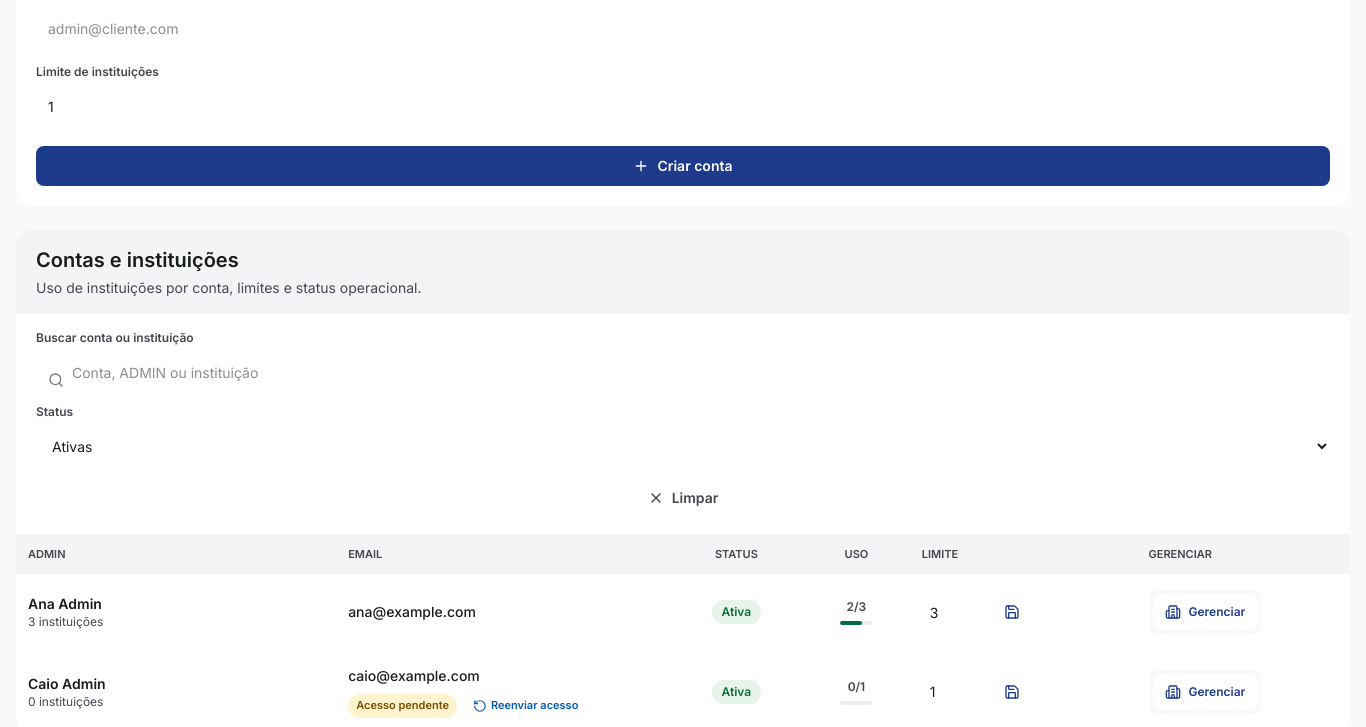
it: PlatformPage › filtra escolas localmente ignorando maiusculas e espacos extras
(page scrolled)
Click the button with aria-label "Gerenciar escolas e ações de Conta Alfa": (1205, 612) [1152,594,1257,630]
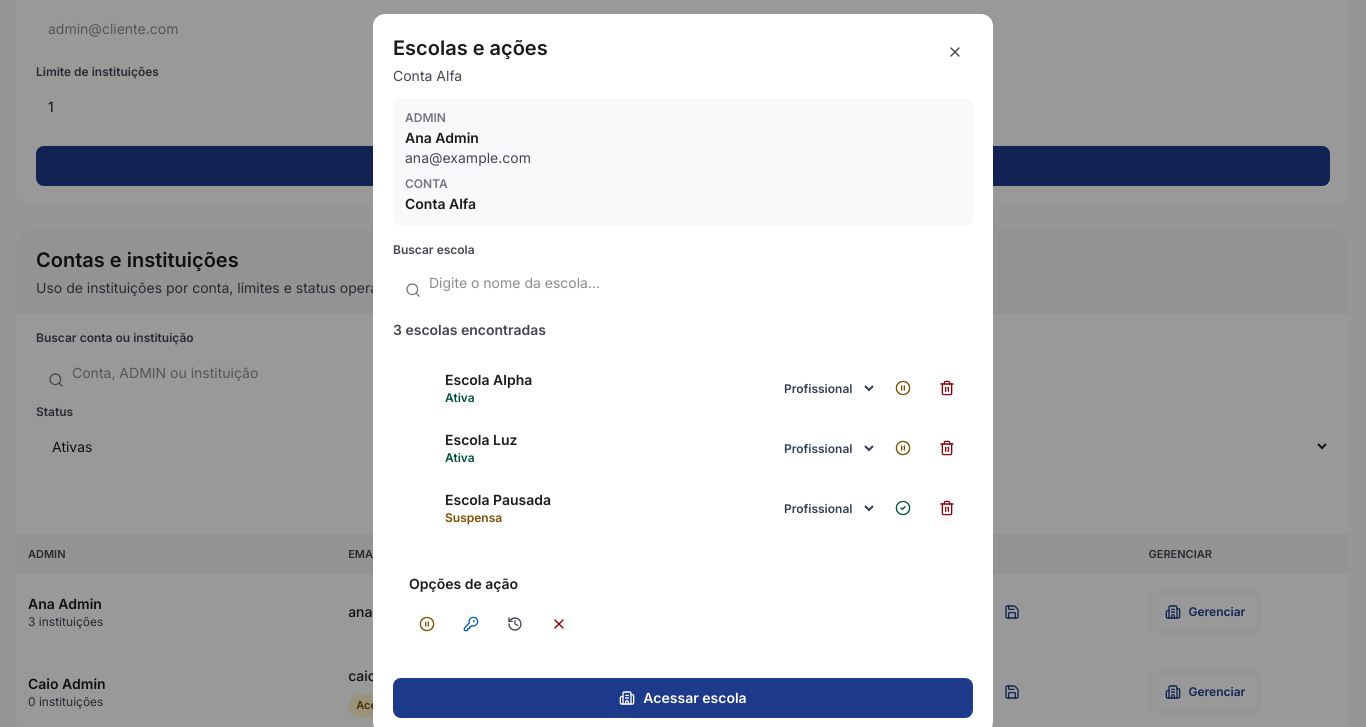
In the search field labelled "Buscar escola": (683, 282) [393,262,973,302], type "  escola   lUz  "
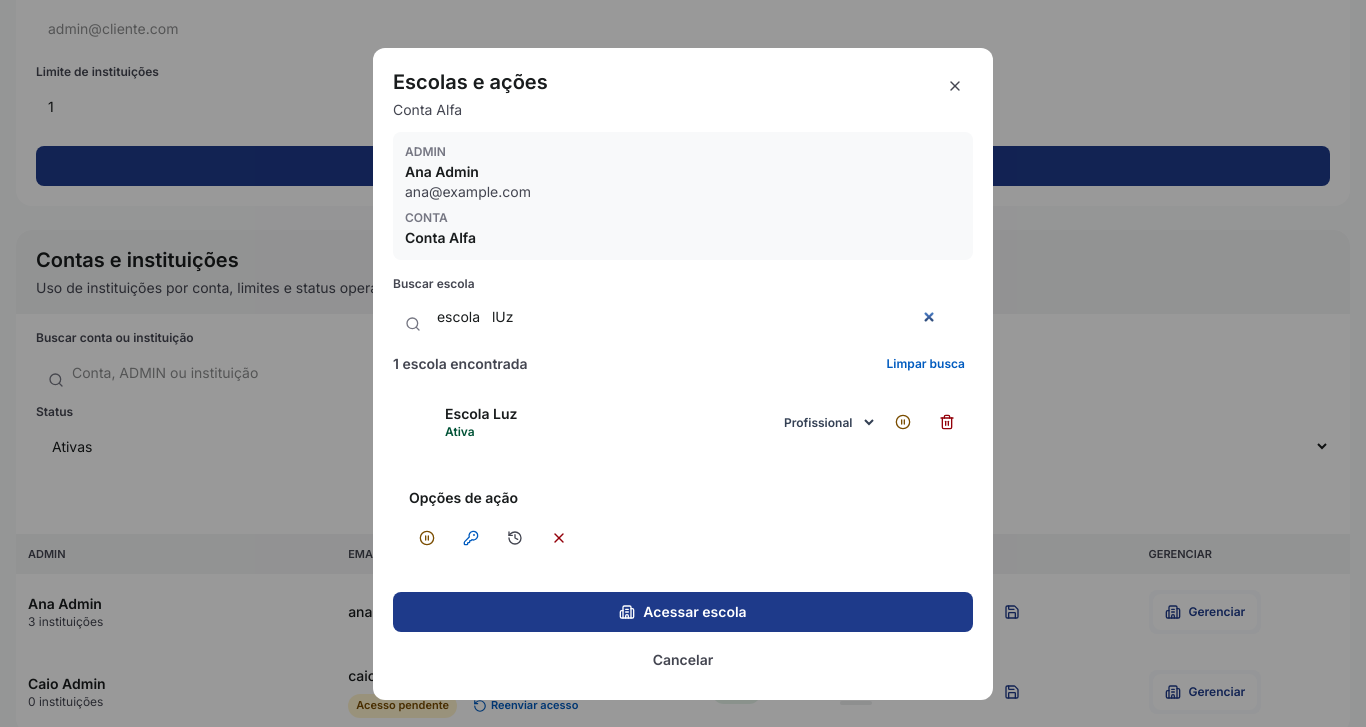
expect the text "Escola Luz" is shown: met, box [445,404,518,424]
expect the text "1 escola encontrada" is shown: met, box [393,354,528,374]
expect the option "Escola Alpha" is gone: met
